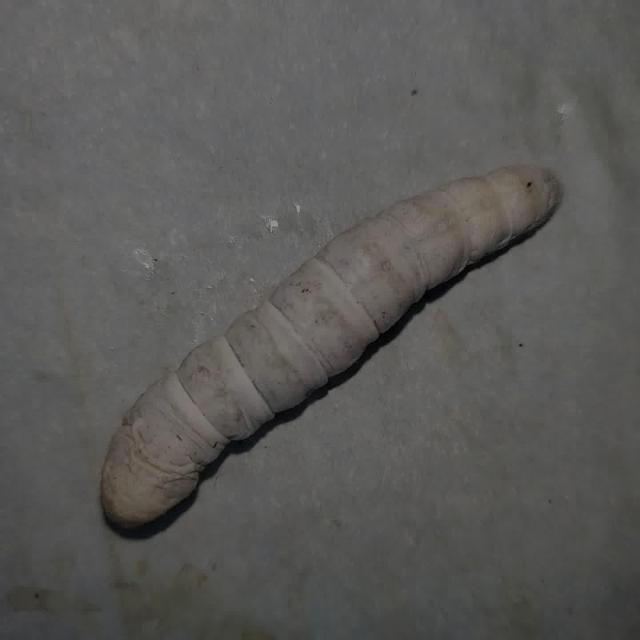Grasserie: (85, 150, 566, 542)
